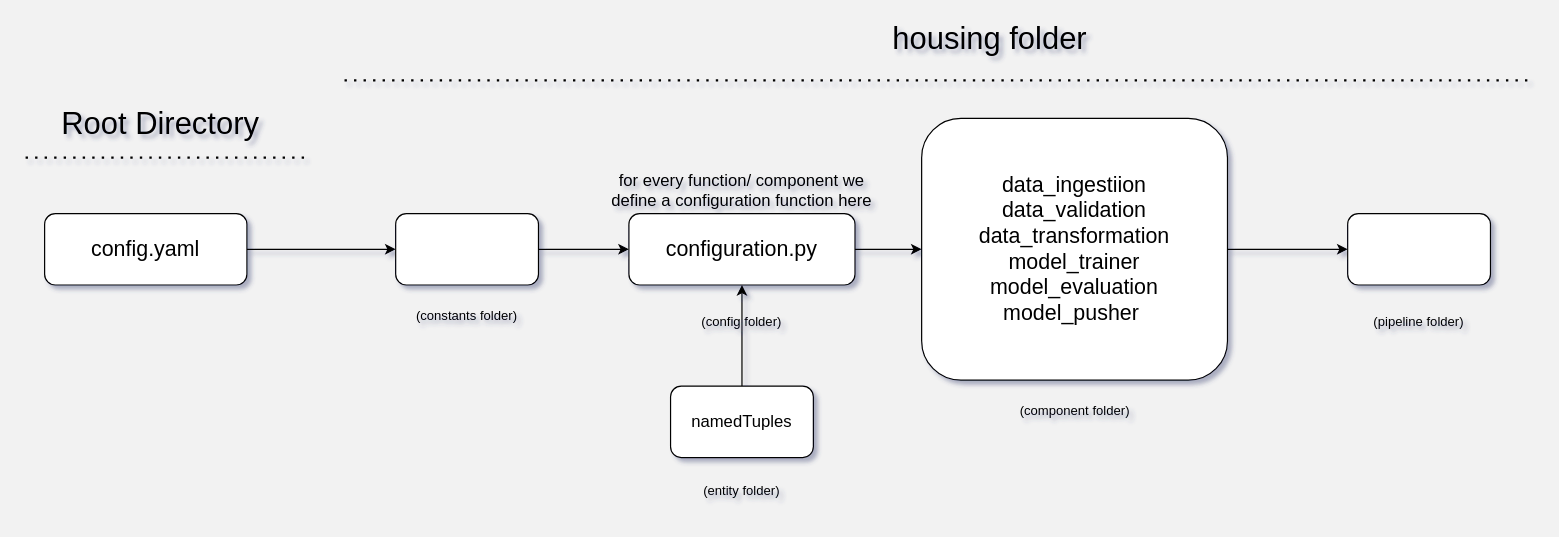
This 1559x537 diagram has some shape labels left out. The shapes that lost their labels are listed below. From the top down, each one's centre as x and y in pixels, then its label:
At (x=466, y=248): "constants".
At (x=1418, y=248): "pipeline".
